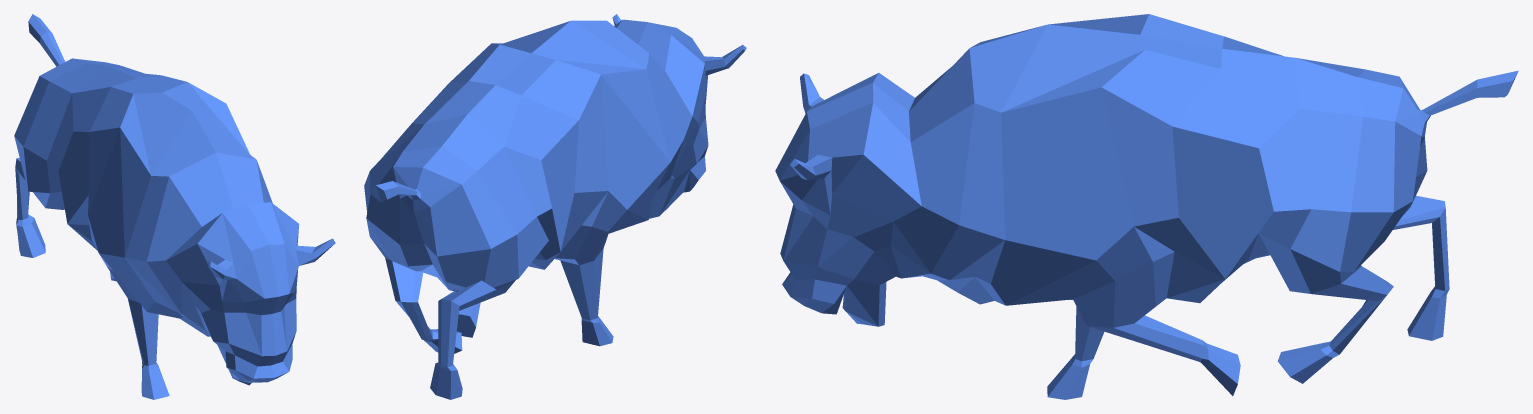
File: bison_015.obj
The picture shows the model from 3 angles, left to right: view 1: azimuth 30°, elevation 25°; view 2: azimuth 150°, elevation 25°; view 3: azimuth 270°, elevation 25°; orthographic projection. The views are drawn at different scales.
Visible parts, largest first — view 1: comp_bison_rig:bison_body comp_bison_rig:bison; view 2: comp_bison_rig:bison_body comp_bison_rig:bison; view 3: comp_bison_rig:bison_body comp_bison_rig:bison.
Part boxes in pixels (x1,y1,x2,y2): comp_bison_rig:bison_body comp_bison_rig:bison: (14, 14, 335, 399); comp_bison_rig:bison_body comp_bison_rig:bison: (364, 14, 746, 399); comp_bison_rig:bison_body comp_bison_rig:bison: (775, 14, 1518, 399).
Bounding box in the file's own units: 124 × 182 × 316.
